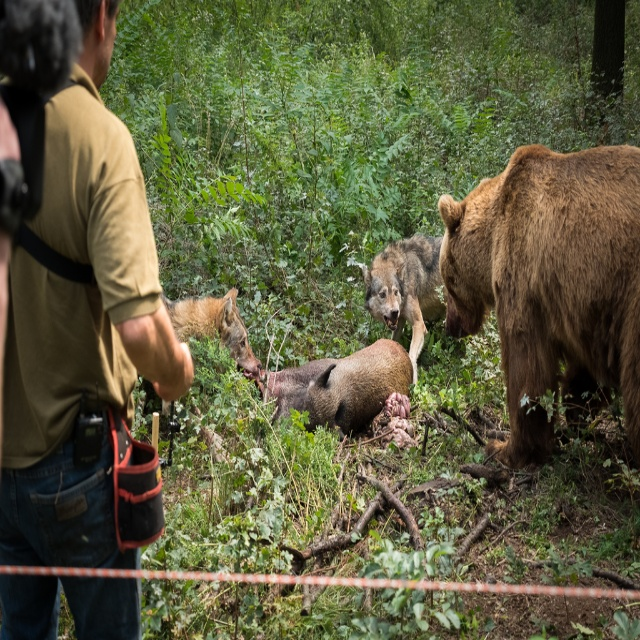Brown bear: (438, 140, 640, 465)
